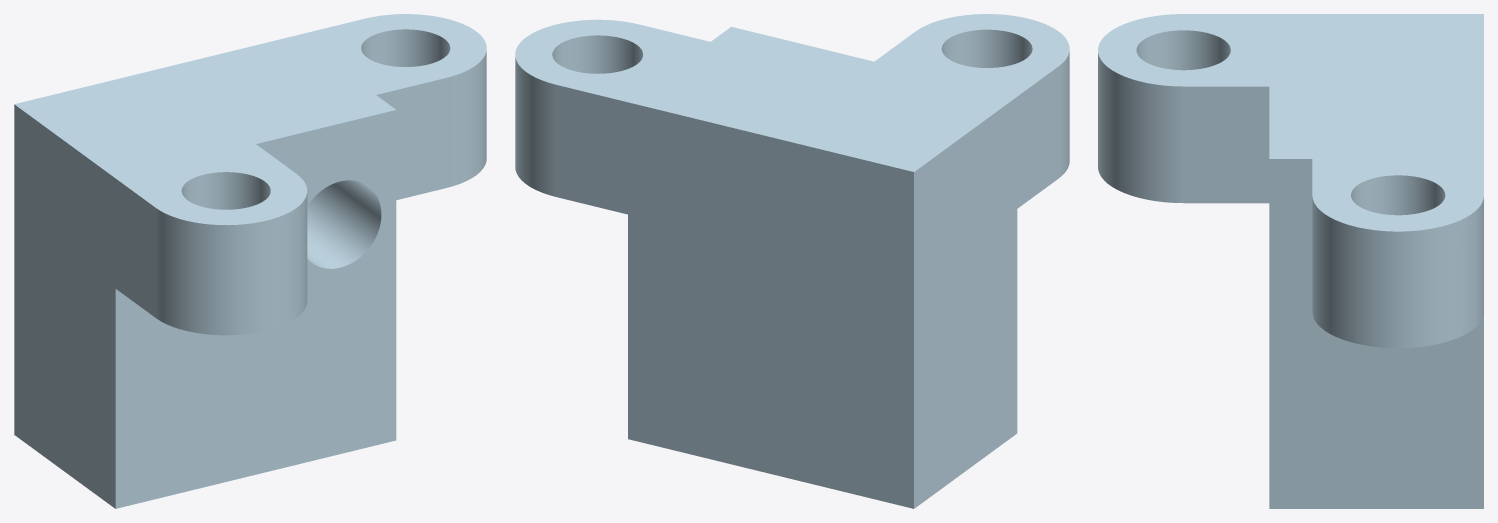
3 views of the same model, side by side, from view 1: azimuth 30°, elevation 25°; view 2: azimuth 150°, elevation 25°; view 3: azimuth 270°, elevation 25° (orthographic). The views are drawn at different scales.
Visible parts, largest first — view 1: mesh512, mesh523, mesh514, mesh516, mesh521, mesh511, mesh522, mesh525, mesh518; view 2: mesh519, mesh523, mesh514, mesh522, mesh525, mesh518, mesh516; view 3: mesh523, mesh520, mesh522, mesh515, mesh516, mesh518, mesh525.
Boxes of the visible parts, x1=… form: mesh512: x1=115, y1=110, x2=396, y2=508; mesh523: x1=14, y1=14, x2=486, y2=225; mesh514: x1=14, y1=104, x2=155, y2=508; mesh516: x1=156, y1=193, x2=307, y2=335; mesh521: x1=376, y1=78, x2=446, y2=200; mesh511: x1=307, y1=180, x2=381, y2=268; mesh522: x1=446, y1=51, x2=486, y2=187; mesh525: x1=361, y1=29, x2=450, y2=66; mesh518: x1=181, y1=172, x2=270, y2=209; mesh519: x1=556, y1=85, x2=913, y2=508; mesh523: x1=515, y1=14, x2=1069, y2=171; mesh514: x1=914, y1=66, x2=1058, y2=508; mesh522: x1=515, y1=57, x2=556, y2=196; mesh525: x1=552, y1=35, x2=642, y2=73; mesh518: x1=941, y1=29, x2=1032, y2=67; mesh516: x1=1058, y1=51, x2=1069, y2=178; mesh523: x1=1098, y1=14, x2=1483, y2=231; mesh520: x1=1269, y1=159, x2=1483, y2=508; mesh522: x1=1312, y1=196, x2=1483, y2=348; mesh515: x1=1183, y1=86, x2=1269, y2=203; mesh516: x1=1098, y1=53, x2=1183, y2=202; mesh518: x1=1136, y1=30, x2=1230, y2=70; mesh525: x1=1351, y1=175, x2=1445, y2=215.
Bounding box in the file's own units: 0.012 × 0.009 × 0.009.
